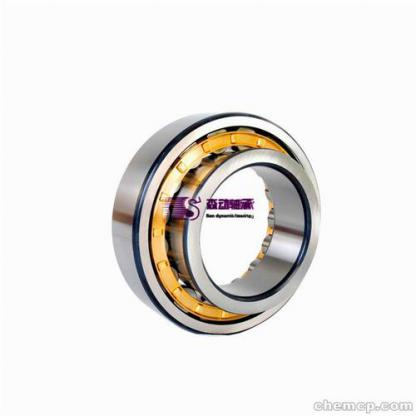FOD: (108, 101, 328, 340)
